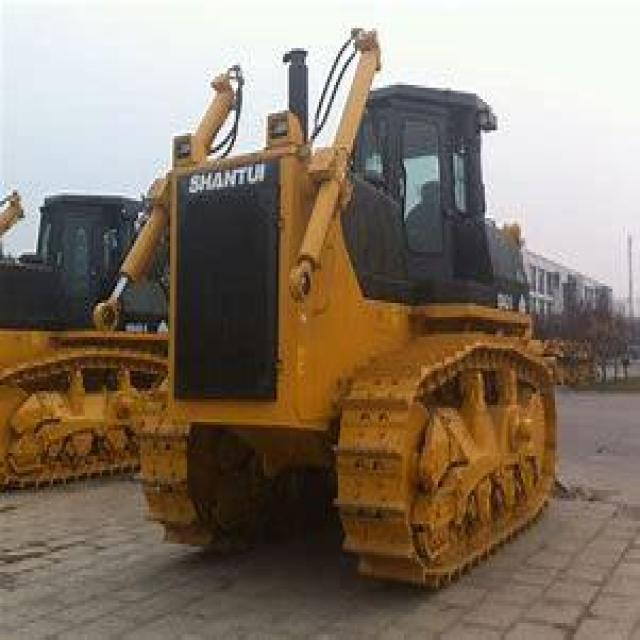buldozerpayloadergrader: (100, 20, 583, 589)
